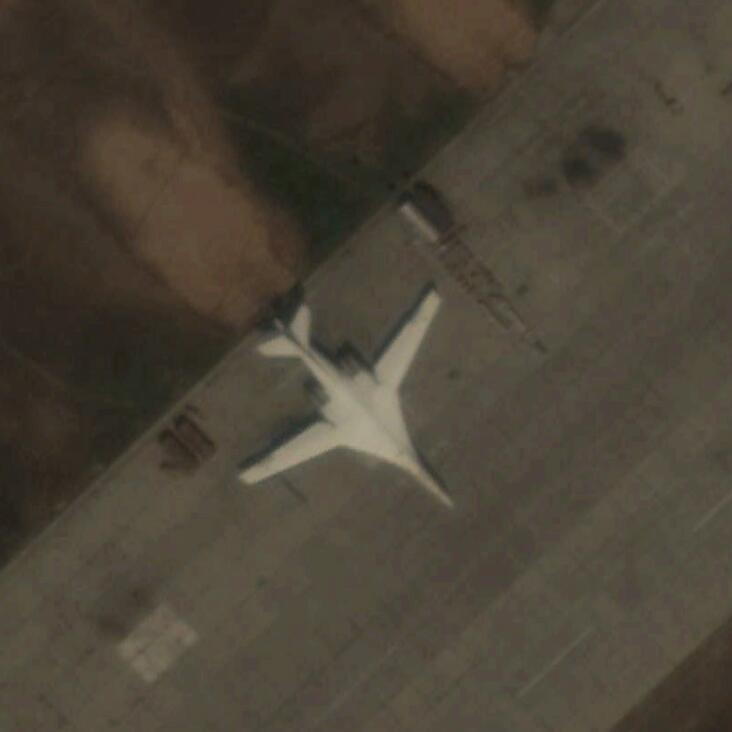A6: (236, 282, 458, 511)
